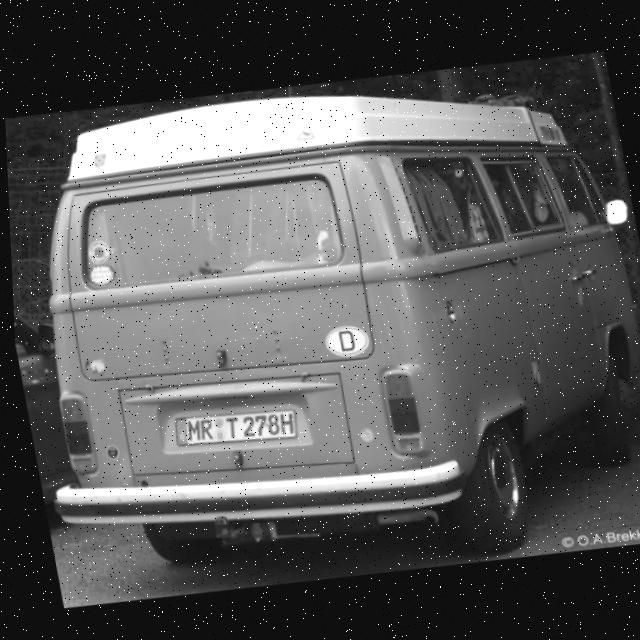license-plates: (175, 410, 298, 447)
